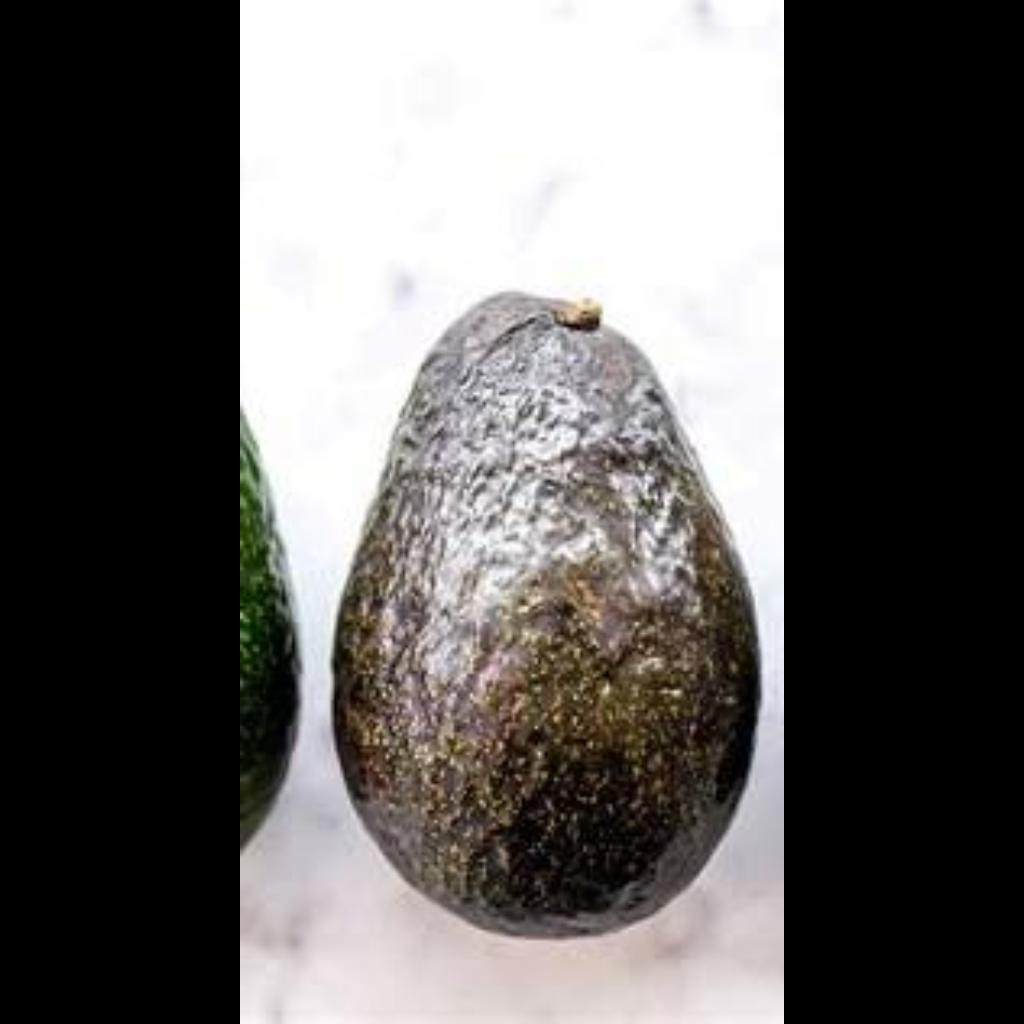antracnosis_fruto: (323, 292, 769, 953)
